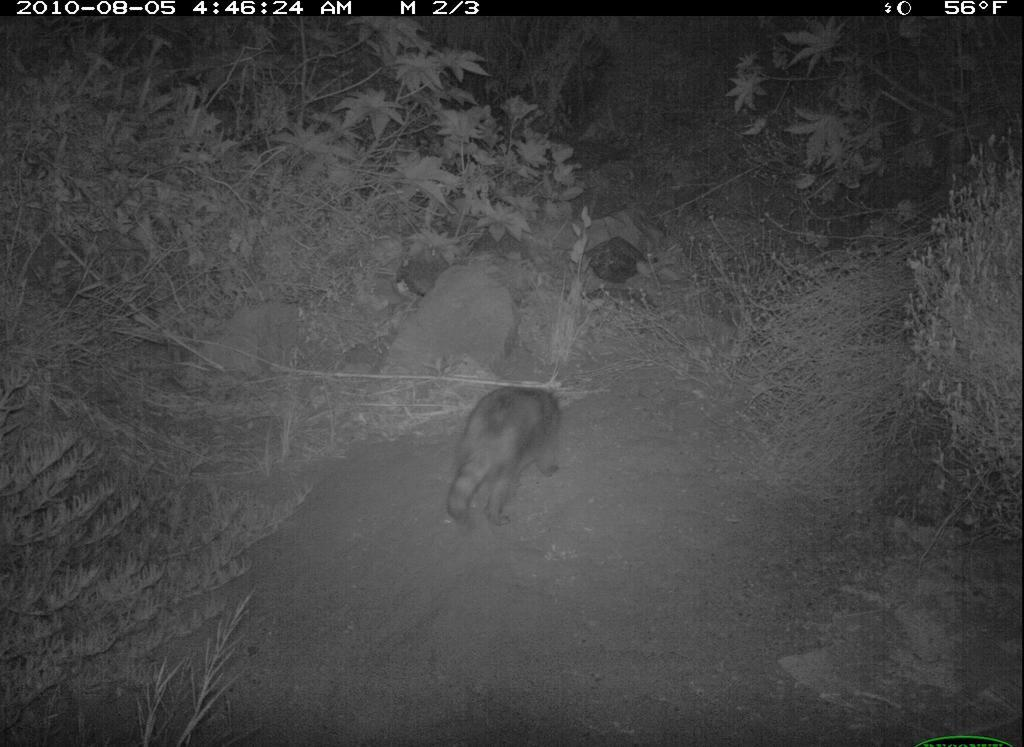raccoon: (438, 369, 598, 551)
